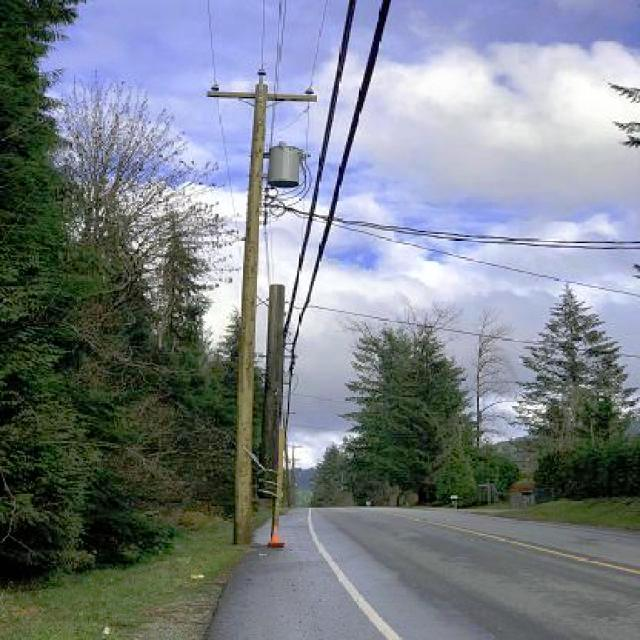poles: (208, 70, 318, 543)
wires: (280, 4, 411, 356), (277, 199, 639, 302), (204, 0, 333, 83)
